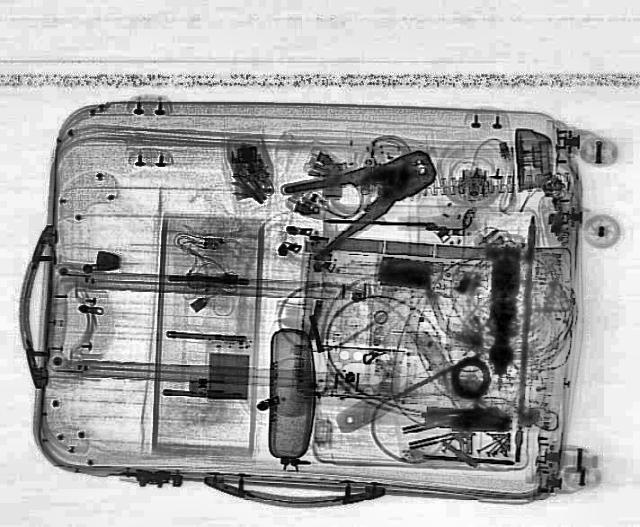Pliers: (269, 141, 459, 261)
